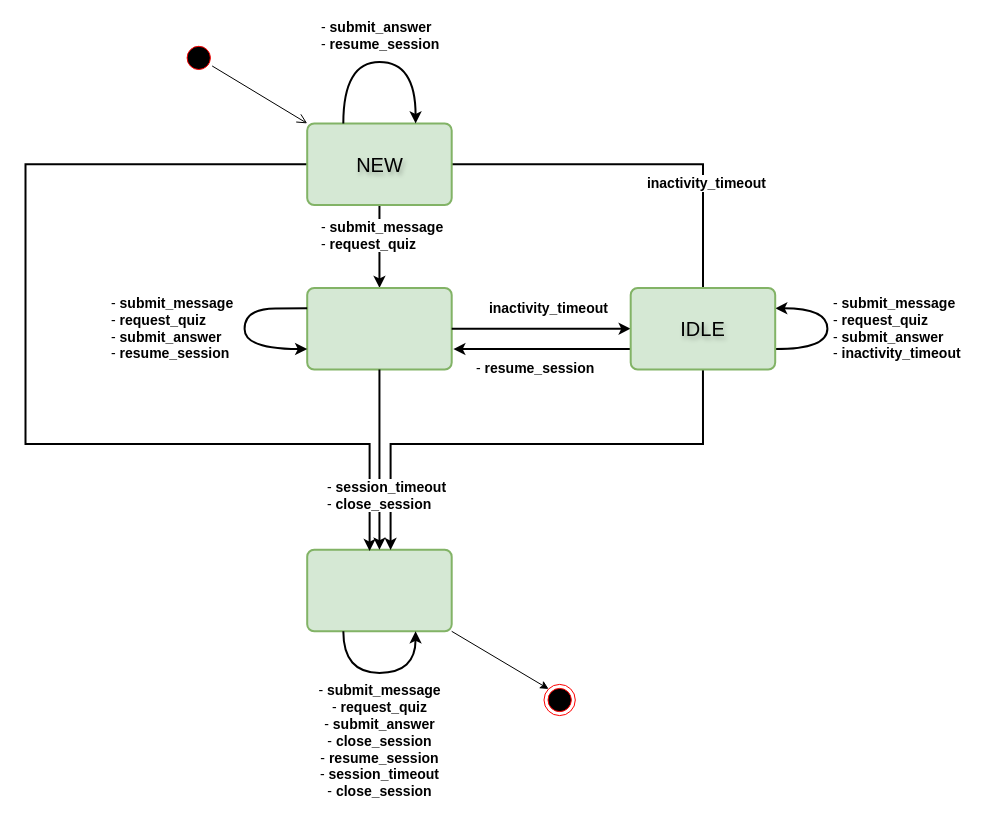
The diagram is 1002 pixels wide and 834 high, and some of its shapes have lost their labels. Each missing label, with the box of its shape:
ACTIVE: (306, 286, 452, 370)
EXPIRED: (306, 548, 452, 632)
